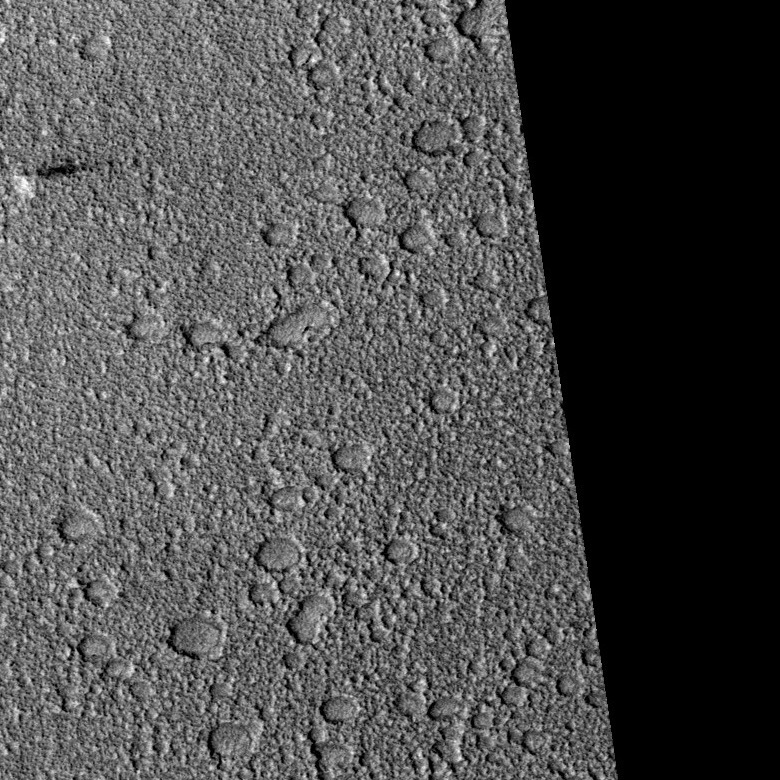dust_devil: (9, 156, 103, 200)
